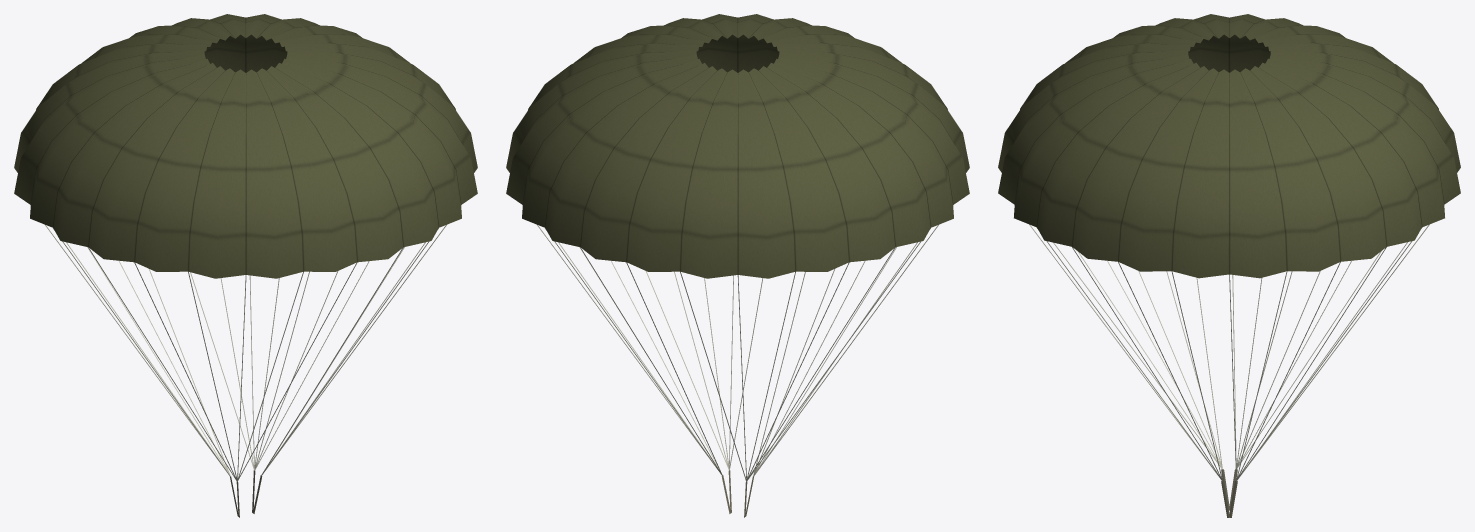
Rendered from parachute_personnel.glb.
The picture shows the model from 3 angles, left to right: view 1: azimuth 30°, elevation 25°; view 2: azimuth 150°, elevation 25°; view 3: azimuth 270°, elevation 25°; orthographic projection.
Visible parts, largest first — view 1: Canopy, Rigging; view 2: Canopy, Rigging; view 3: Canopy, Rigging.
Part boxes in pixels (x1,y1,x2,y2): Canopy: (14,14,477,278); Rigging: (45,225,446,517); Canopy: (506,14,969,278); Rigging: (537,225,938,517); Canopy: (998,14,1460,278); Rigging: (1029,224,1429,517).
Size of the model in its own units: 6.66 by 7.35 by 6.66.
3 materials, 1 textured.
